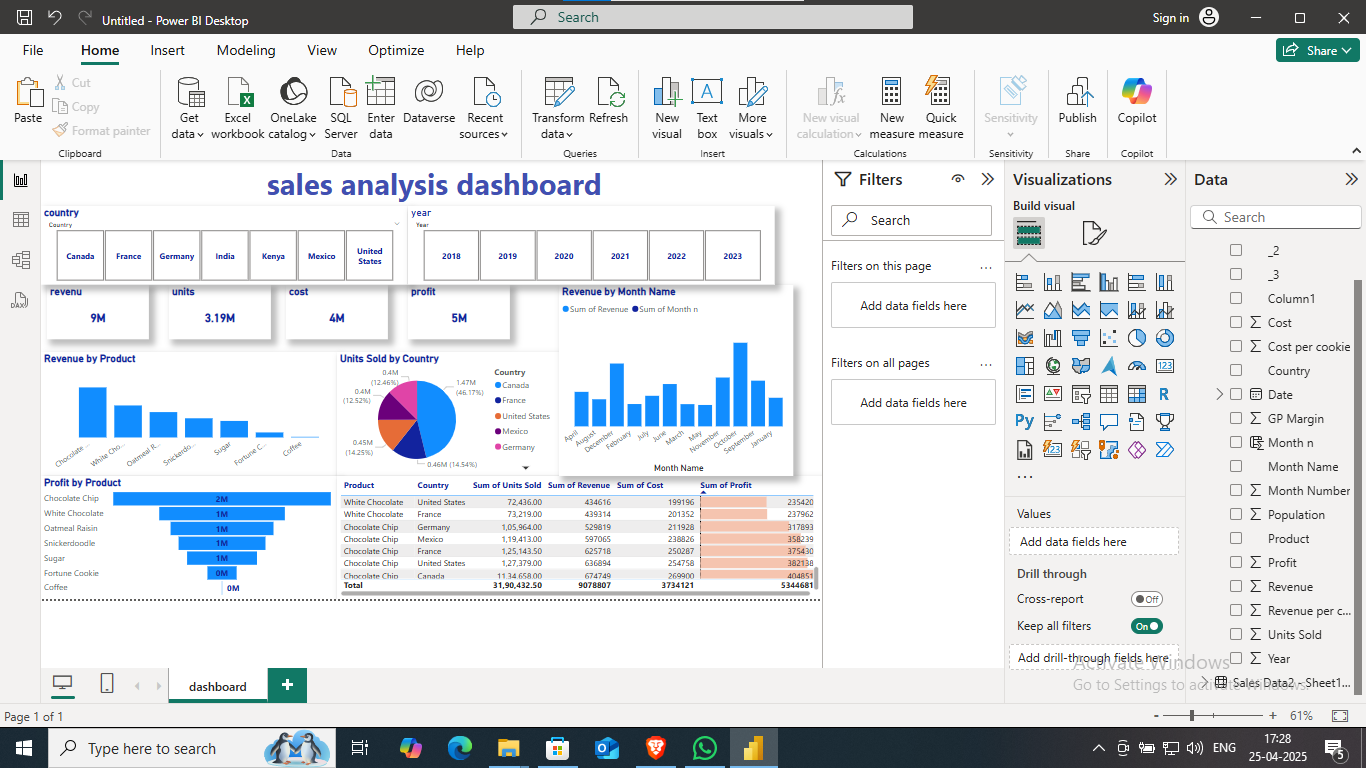

This screenshot's page, from the dashboard's own definition file:
{"tool":"powerbi","page":{"name":"dashboard","canvas":[1280,720],"ordinal":0},"visuals":[{"type":"textbox","box":[10.1,0,1269.9,87.3],"z":0},{"type":"card","title":"revenu","fields":{"Values":["Sum(Sales Data2 - Sheet1.Revenue)"]},"box":[9.8,204.9,167.2,88.5],"z":1000},{"type":"card","title":"units","fields":{"Values":["Sum(Sales Data2 - Sheet1.Units Sold)"]},"box":[227.5,204.5,167,89.3],"z":2000},{"type":"card","title":"cost","fields":{"Values":["Sum(Sales Data2 - Sheet1.Cost)"]},"box":[436.3,204.5,167,89.3],"z":3000},{"type":"card","title":"profit","fields":{"Values":["Sum(Sales Data2 - Sheet1.Profit)"]},"box":[645.1,203,167,89.3],"z":4000},{"type":"columnChart","title":" Revenue by Product","fields":{"Y":["Sum(Sales Data2 - Sheet1.Revenue)"],"Category":["Sales Data2 - Sheet1.Product"]},"box":[0,314.7,485.1,203.2],"z":5000},{"type":"pieChart","title":" Units Sold by Country","fields":{"Y":["Sum(Sales Data2 - Sheet1.Units Sold)"],"Category":["Sales Data2 - Sheet1.Country"]},"box":[485.1,314.7,363.8,203.2],"z":6000},{"type":"funnel","title":" Profit by Product","fields":{"Category":["Sales Data2 - Sheet1.Product"],"Y":["Sum(Sales Data2 - Sheet1.Profit)"]},"box":[0,517.9,485.1,201.6],"z":7000},{"type":"tableEx","fields":{"Values":["Sales Data2 - Sheet1.Product","Sales Data2 - Sheet1.Country","Sum(Sales Data2 - Sheet1.Units Sold)","Sum(Sales Data2 - Sheet1.Revenue)","Sum(Sales Data2 - Sheet1.Cost)","Sum(Sales Data2 - Sheet1.Profit)"]},"box":[485.1,517.9,794.9,201.6],"z":8000},{"type":"columnChart","title":" Revenue by Month Name","fields":{"Category":["Sales Data2 - Sheet1.Month Name"],"Y":["Sum(Sales Data2 - Sheet1.Revenue)","Sum(Sales Data2 - Sheet1.Month n)"]},"box":[849,204.9,431,313],"z":8001},{"type":"slicer","title":"country","fields":{"Values":["Sales Data2 - Sheet1.Country"]},"box":[0,75.4,667,129.5],"z":8002},{"type":"slicer","title":"year","fields":{"Values":["Sales Data2 - Sheet1.Year"]},"box":[667,75.4,613,129.5],"z":8003}]}

Visuals, with their boxes on the page's 1280x720 design canvas (x1, y1, x2, y2). These are canvas units, not pixel positions in the 1366x768 screenshot, which may show the page scaled, cropped or inside an application window:
textbox: 10:0:1280:87
"revenu" card: 10:205:177:293
"units" card: 228:204:394:294
"cost" card: 436:204:603:294
"profit" card: 645:203:812:292
" Revenue by Product" columnChart: 0:315:485:518
" Units Sold by Country" pieChart: 485:315:849:518
" Profit by Product" funnel: 0:518:485:720
tableEx - Sales Data2 - Sheet1.Product x Sales Data2 - Sheet1.Country: 485:518:1280:720
" Revenue by Month Name" columnChart: 849:205:1280:518
"country" slicer: 0:75:667:205
"year" slicer: 667:75:1280:205
